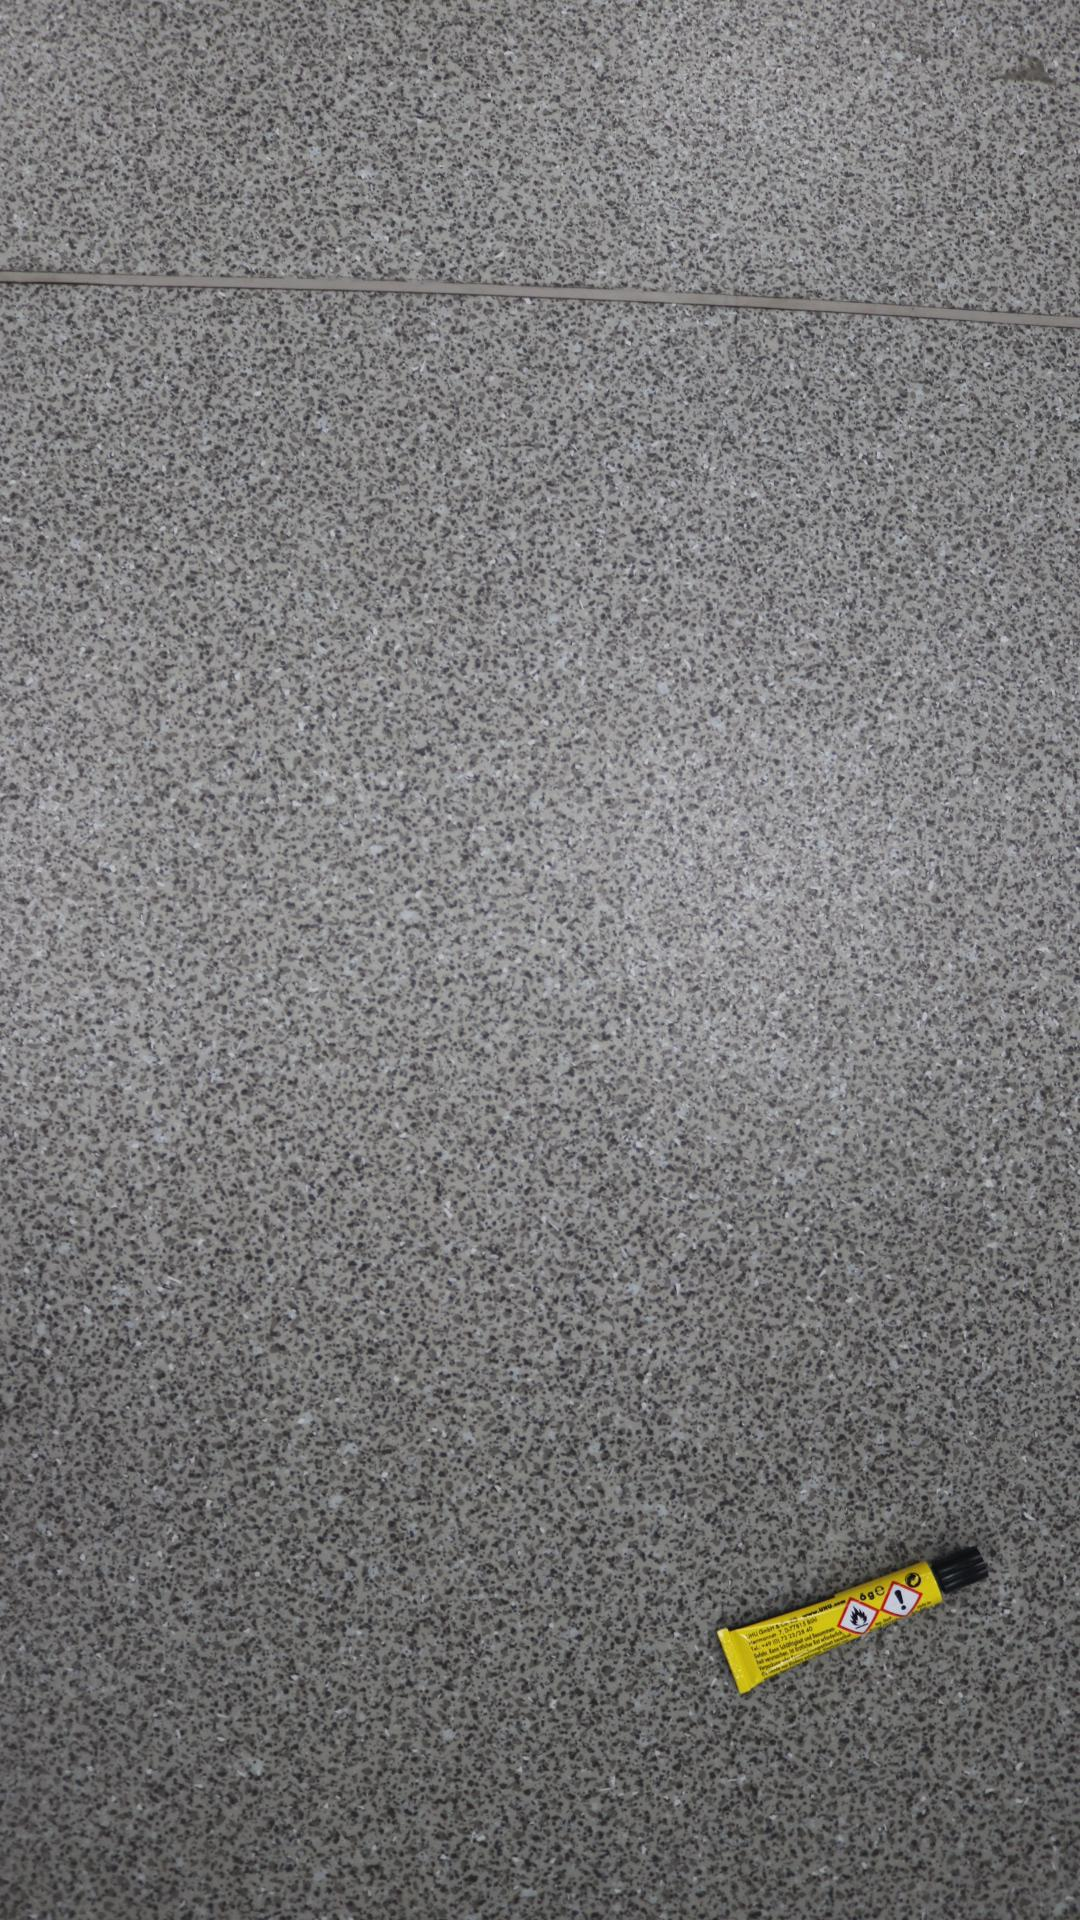Head: (957, 1568, 964, 1575)
Tail: (731, 1657, 737, 1665)
Tube: (715, 1544, 990, 1694)
